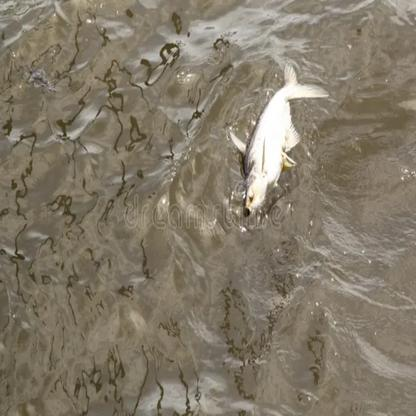deceased fish: (228, 60, 328, 214)
